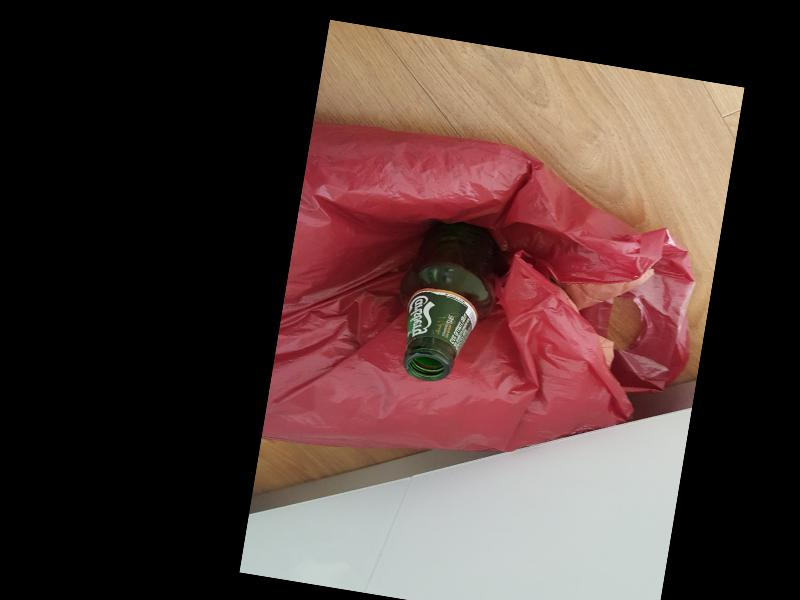Beer: (387, 213, 506, 387)
